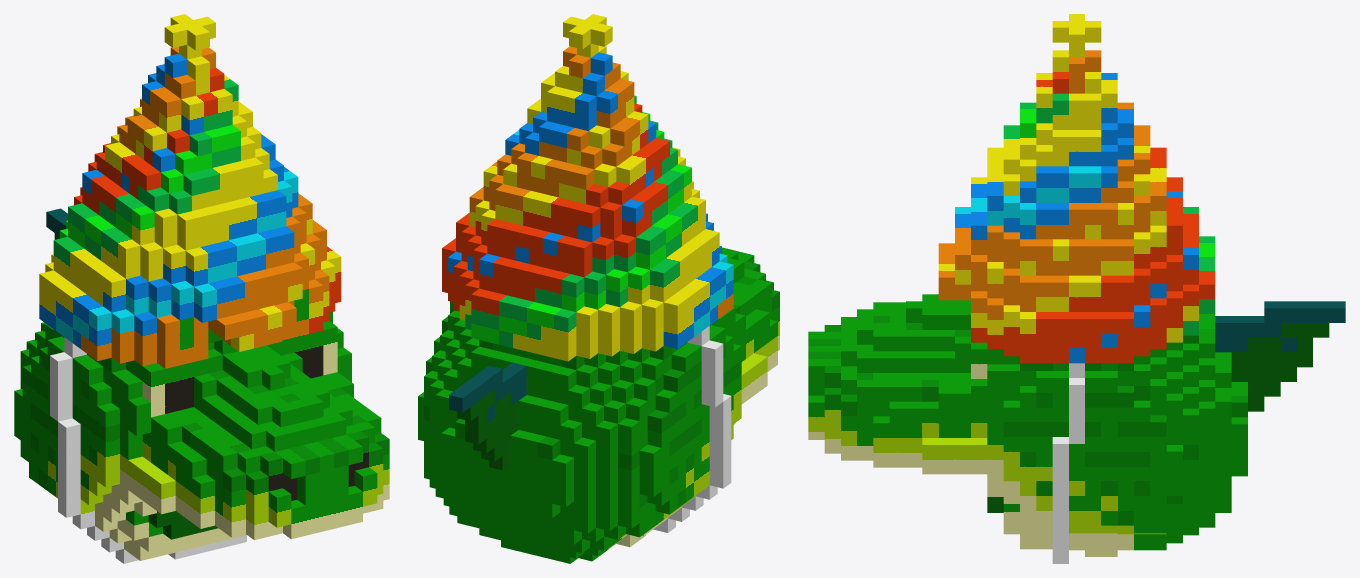
Rendered from birthday hat_rainbow spectacles.gltf.
The picture shows the model from 3 angles, left to right: view 1: azimuth 30°, elevation 25°; view 2: azimuth 150°, elevation 25°; view 3: azimuth 270°, elevation 25°; orthographic projection. The views are drawn at different scales.
Parts seen in each view (by area): view 1: C05_H_BirthdayH_RedGlasses-Mesh; view 2: C05_H_BirthdayH_RedGlasses-Mesh; view 3: C05_H_BirthdayH_RedGlasses-Mesh.
Part boxes in pixels (bbox=[...]): C05_H_BirthdayH_RedGlasses-Mesh: bbox=[14, 14, 389, 563]; C05_H_BirthdayH_RedGlasses-Mesh: bbox=[418, 14, 779, 563]; C05_H_BirthdayH_RedGlasses-Mesh: bbox=[808, 14, 1345, 563].
Bounding box in the file's own units: 19 × 34 × 33.
1 material, 1 textured.
